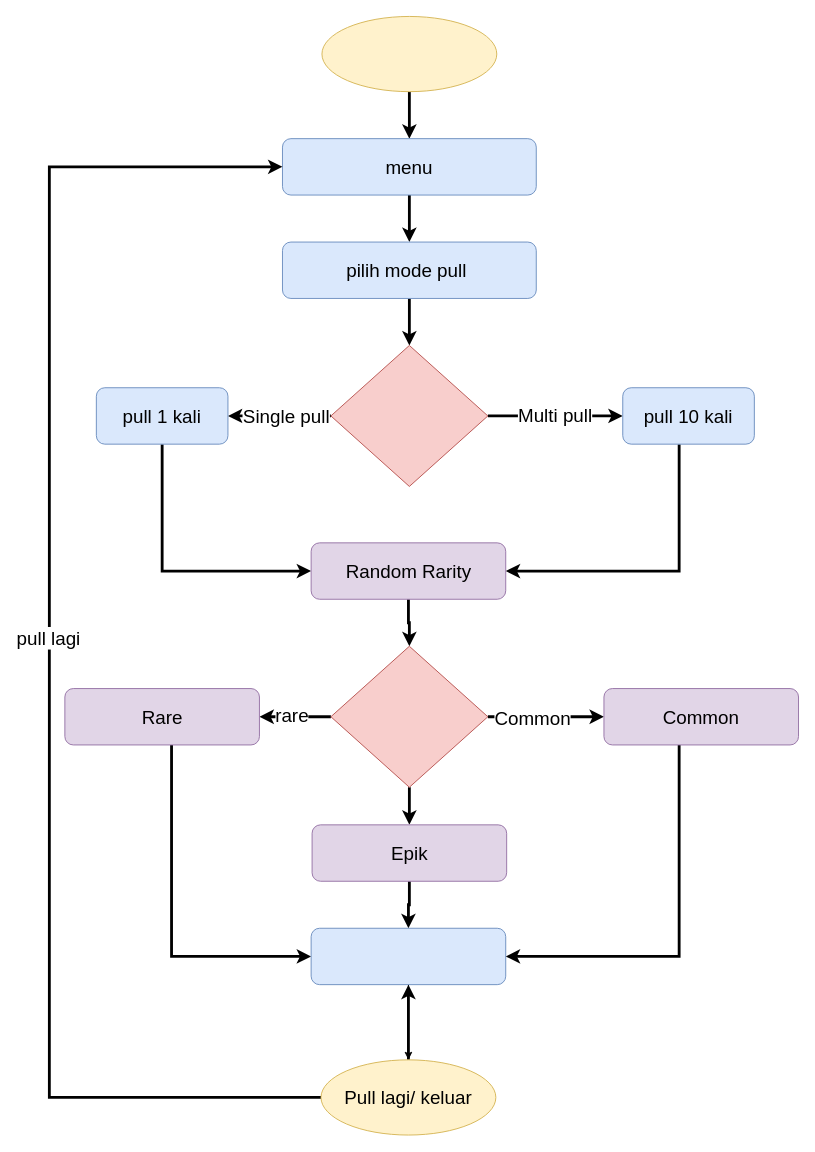
Some shapes in this 815 by 1152 pixel diagram are drawn without their labels. The shapes that lost their labels are listed below. From the top down, each one's box as (x1, y1, x2, y2) in pixels, then its label:
(321, 16, 497, 92): mulai program
(330, 345, 488, 486): mode ?
(330, 645, 488, 787): Rarity?
(310, 927, 506, 985): Tampilkan info kartu
